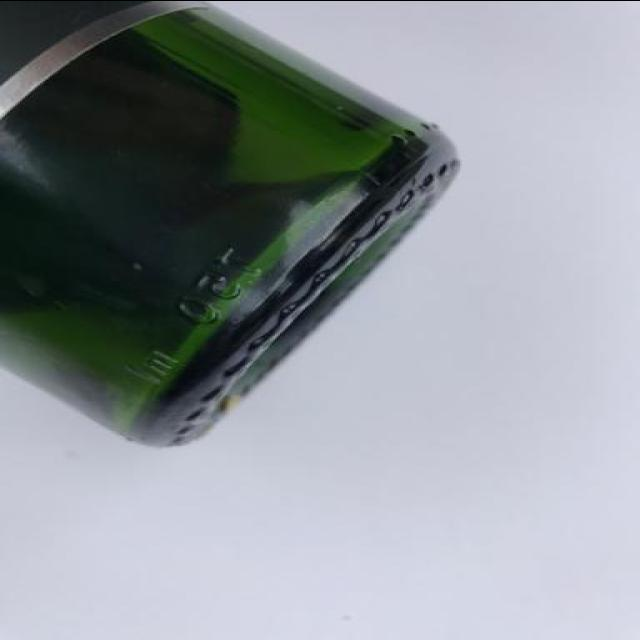glass: (0, 0, 495, 468)
